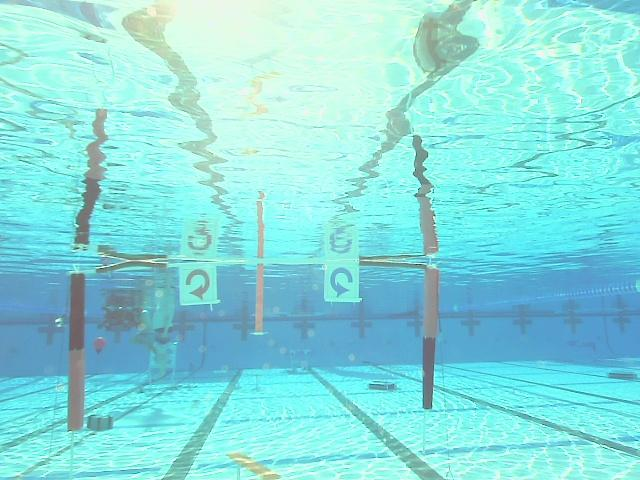buoy: (93, 337, 106, 355)
dropper: (608, 368, 638, 383), (365, 379, 396, 393)
gate: (66, 258, 441, 432)
gate_blue: (326, 264, 358, 301)
gate_leg_l: (68, 269, 87, 431)
gate_leg_r: (421, 264, 442, 410)
gate_red: (179, 266, 217, 303)
